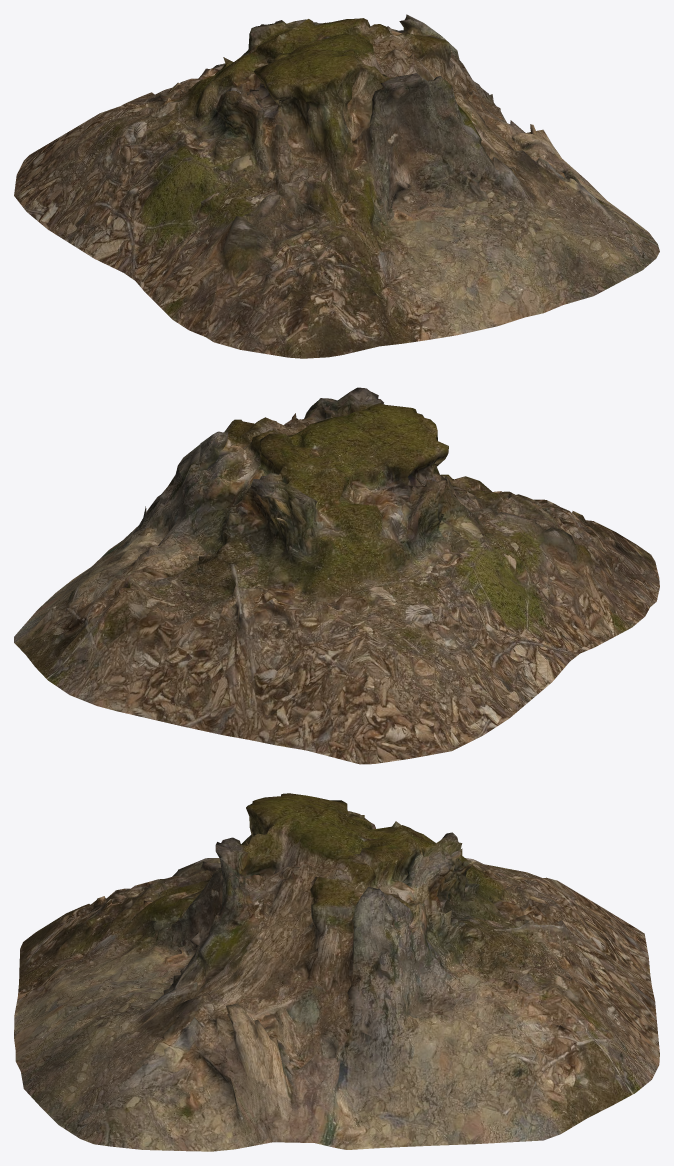
File: tree_stump_01.glb
The picture shows the model from 3 angles, top to bottom: view 1: azimuth 30°, elevation 25°; view 2: azimuth 150°, elevation 25°; view 3: azimuth 270°, elevation 25°; orthographic projection. The views are drawn at different scales.
Parts seen in each view (by area): view 1: tree_stump_01; view 2: tree_stump_01; view 3: tree_stump_01.
Boxes of the visible parts, left/top/right/bottom form: tree_stump_01: left=14, top=14, right=659, bottom=358; tree_stump_01: left=14, top=387, right=659, bottom=764; tree_stump_01: left=14, top=793, right=659, bottom=1151.
Size of the model in its own units: 1.43 by 0.5709 by 1.59.
Materials: 1 (1 with a texture image).
